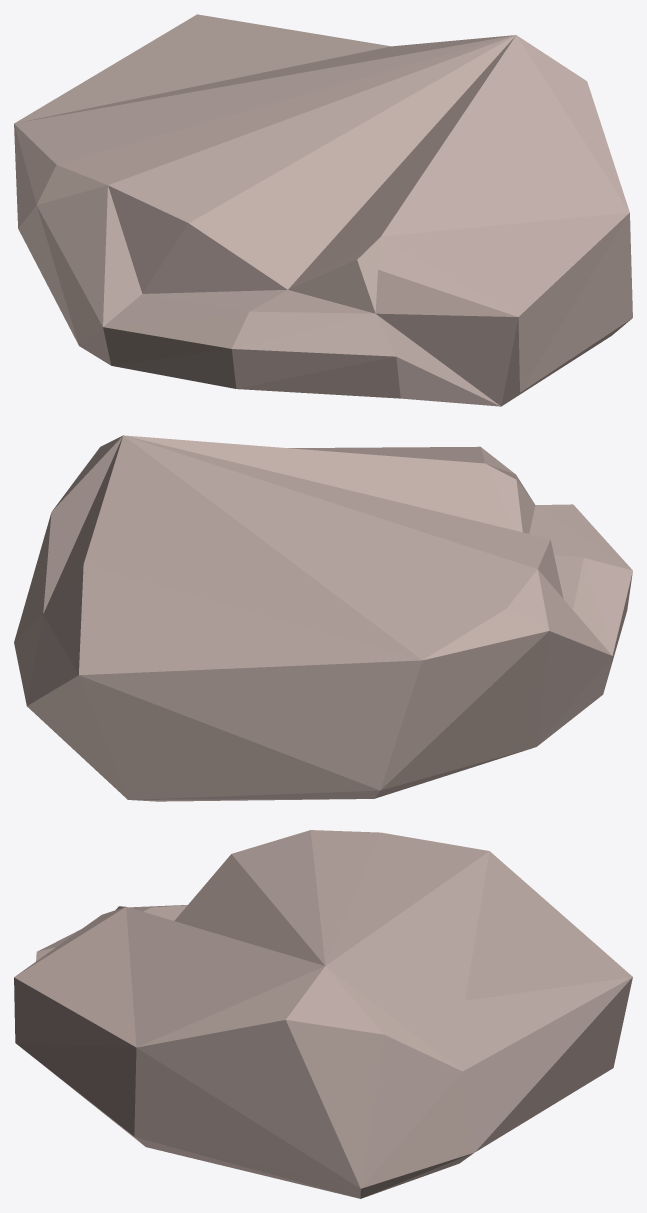
File: rock_015.fbx
3 views of the same model, one above another, from view 1: azimuth 30°, elevation 25°; view 2: azimuth 150°, elevation 25°; view 3: azimuth 270°, elevation 25° (orthographic). The views are drawn at different scales.
Visible parts, largest first — view 1: rock.015; view 2: rock.015; view 3: rock.015.
Boxes of the visible parts, bbox=[...] form: rock.015: bbox=[14, 14, 632, 406]; rock.015: bbox=[14, 435, 632, 801]; rock.015: bbox=[14, 830, 632, 1198].
Bounding box in the file's own units: 433 × 181 × 501.
Materials: 1 (1 with a texture image).
